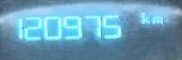0: (42, 13, 61, 39)
1: (14, 15, 24, 39)
2: (25, 15, 41, 39)
5: (100, 13, 122, 38)
7: (83, 14, 101, 37)
9: (62, 13, 81, 38)
X: (140, 11, 149, 23), (151, 14, 162, 23)
